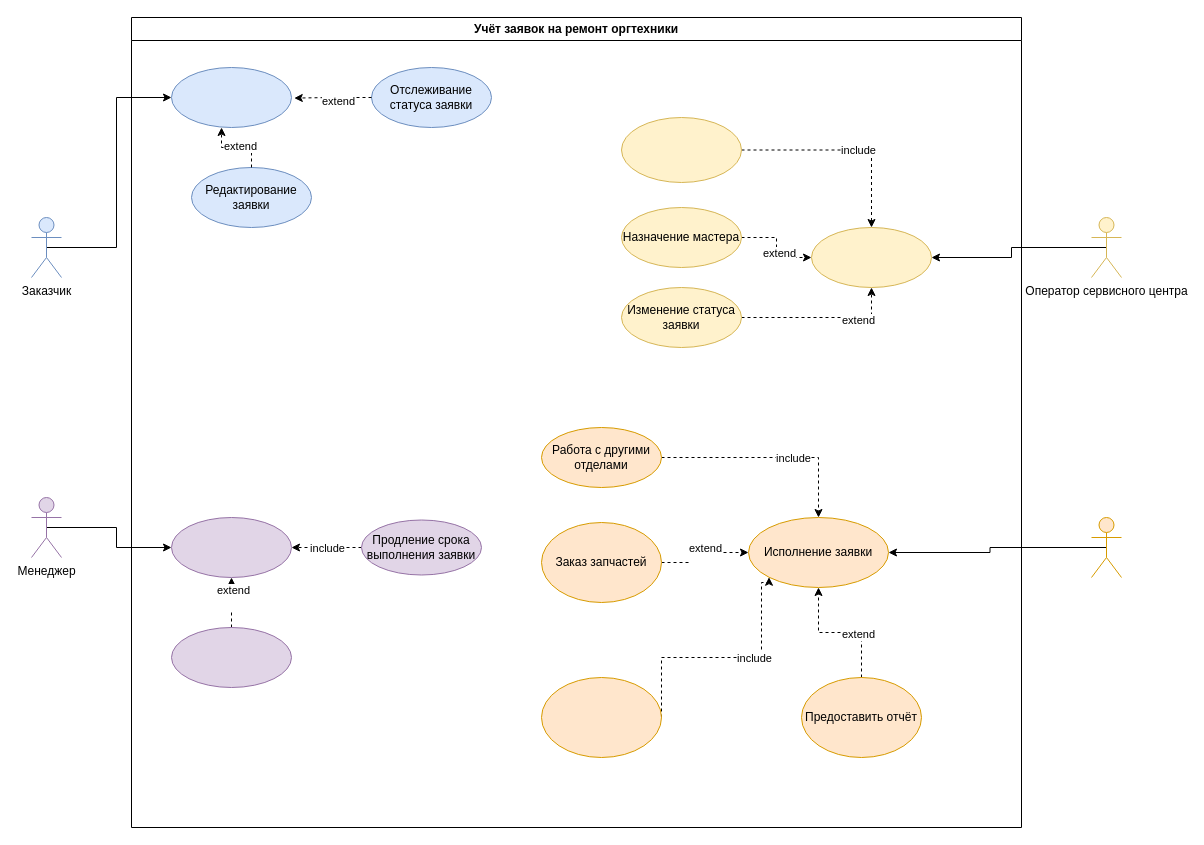
The diagram is 1204 pixels wide and 845 high, and some of its shapes have lost their labels. The centre of each missing label's shape, as x and y in pixels:
"Консультирование мастера" belongs at point 231,657.
"Контролирование выполнение заявки" belongs at point 231,547.
"Координация работ" belongs at point 601,717.
"Мастер" belongs at point 1106,547.
"Оставляет заявку" belongs at point 231,97.
"Присвоение уникального идентификатора заявки" belongs at point 681,149.
"Регистрация заявки" belongs at point 871,257.
